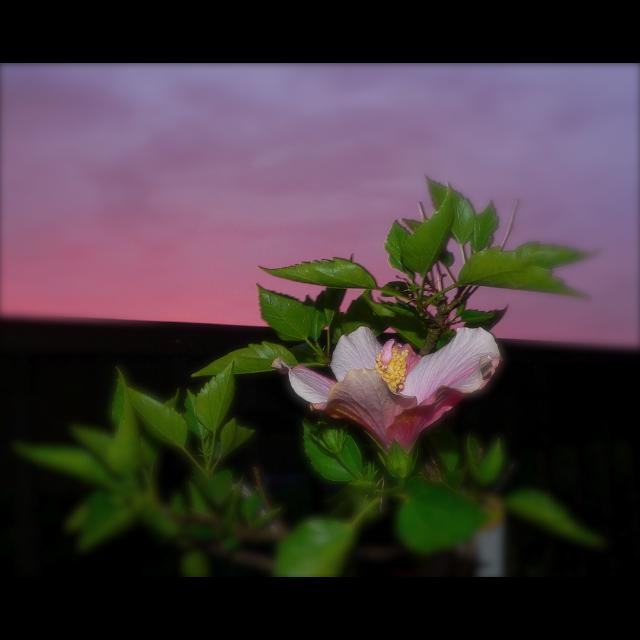Flower: (288, 315, 508, 459)
